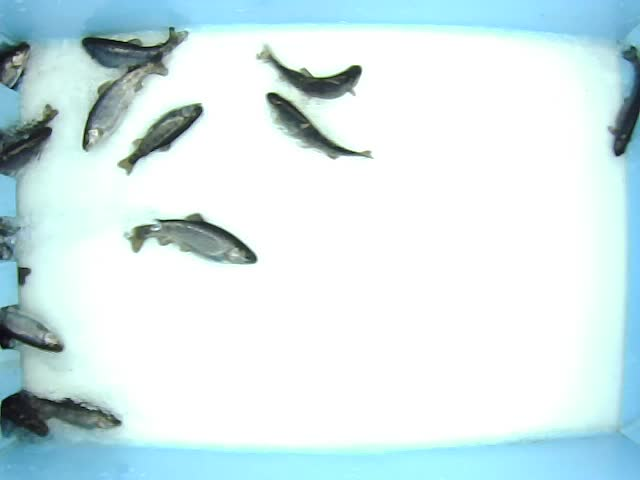fish: (81, 50, 170, 153), (265, 90, 374, 159), (122, 213, 259, 266), (116, 99, 205, 176), (254, 42, 363, 100), (81, 26, 191, 69)
